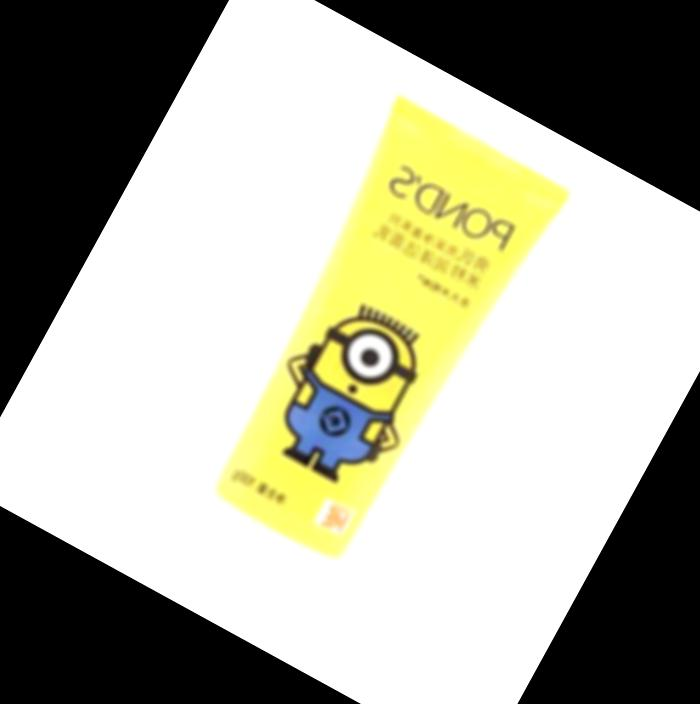cosmetic: (139, 93, 576, 655)
